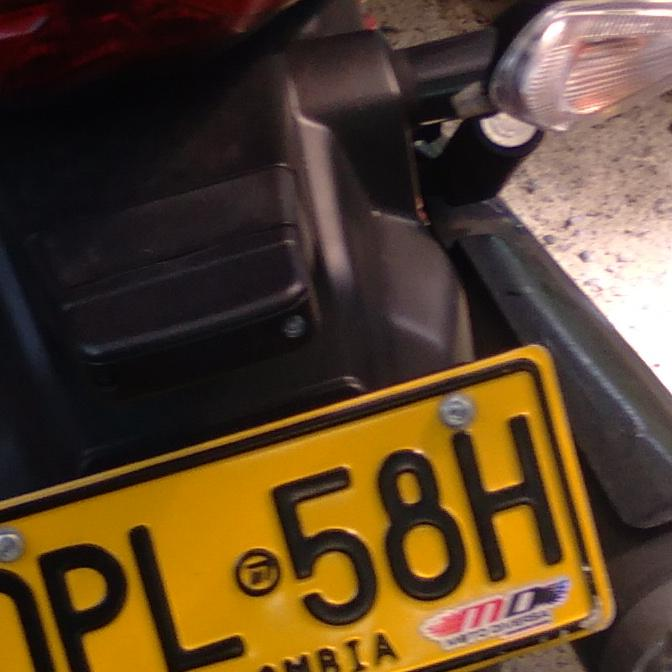plates: (0, 337, 616, 672)
